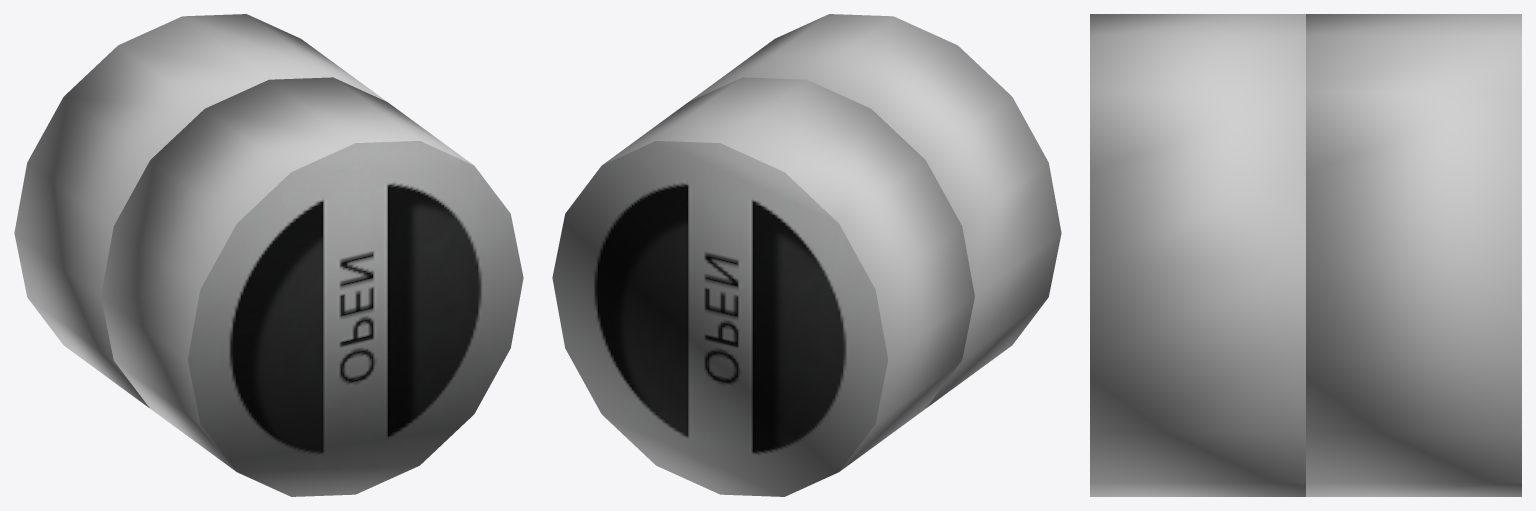
The model's file is door_locks.obj.
3 views of the same model, side by side, from view 1: azimuth 30°, elevation 25°; view 2: azimuth 150°, elevation 25°; view 3: azimuth 270°, elevation 25° (orthographic). The views are drawn at different scales.
Visible parts, largest first — view 1: leftLock, rightLock; view 2: rightLock, leftLock; view 3: leftLock, rightLock.
Boxes of the visible parts, bbox=[...] form: leftLock: bbox=[101, 77, 523, 496]; rightLock: bbox=[14, 14, 386, 407]; rightLock: bbox=[552, 77, 974, 496]; leftLock: bbox=[689, 14, 1061, 407]; leftLock: bbox=[1090, 14, 1305, 496]; rightLock: bbox=[1306, 14, 1521, 496].
Bounding box in the file's own units: 0.3 × 0.3 × 0.268.
